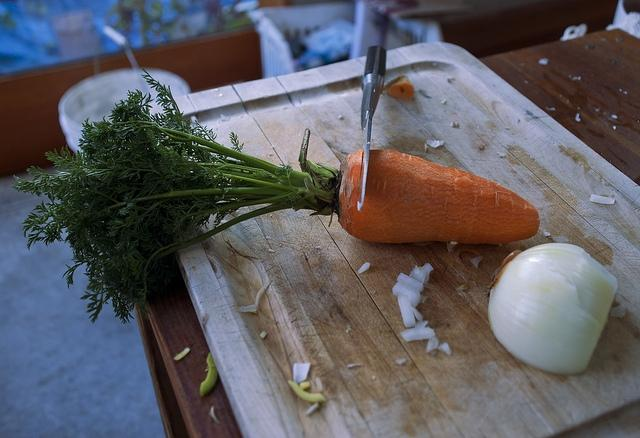carrot: (10, 66, 541, 324)
